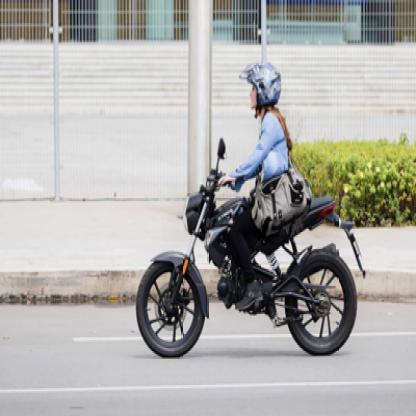With Helmet: (238, 52, 285, 113)
